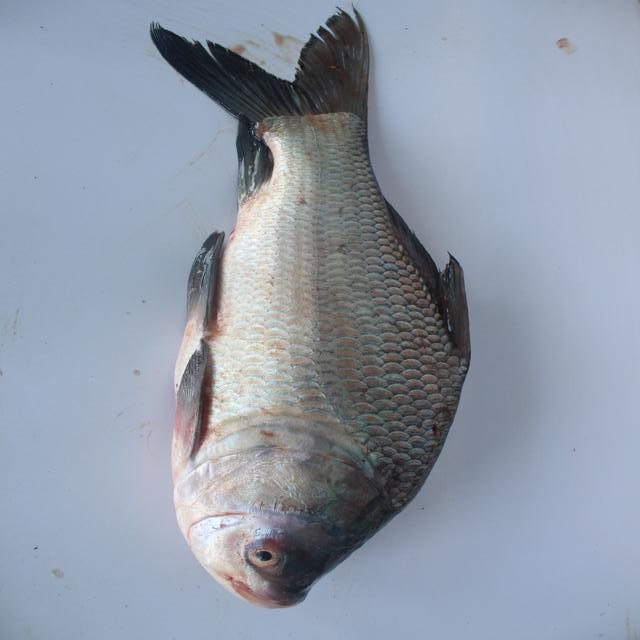Catla: (126, 13, 470, 609)
